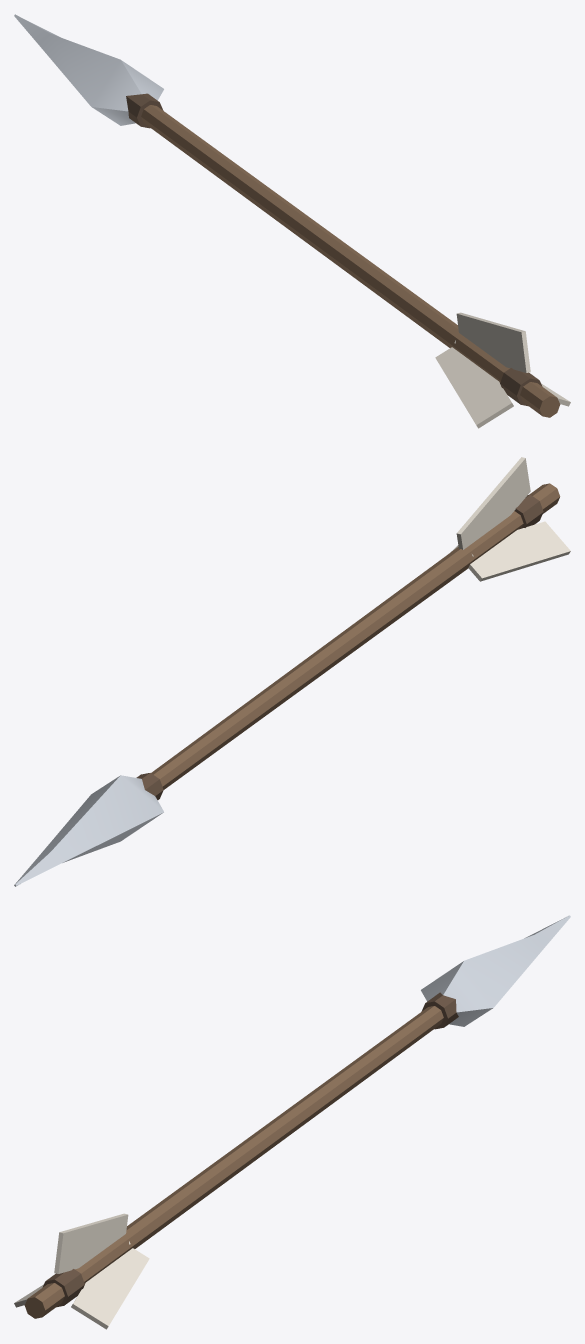
The model's file is ranger_arrow.glb.
The picture shows the model from 3 angles, top to bottom: view 1: azimuth 30°, elevation 25°; view 2: azimuth 150°, elevation 25°; view 3: azimuth 330°, elevation 25°; orthographic projection.
Visible parts, largest first — view 1: SM_Weapon_ShadowArrow_A; view 2: SM_Weapon_ShadowArrow_A; view 3: SM_Weapon_ShadowArrow_A.
Part boxes in pixels (x1,y1,x2,y2): SM_Weapon_ShadowArrow_A: (14,14,570,428); SM_Weapon_ShadowArrow_A: (14,457,570,886); SM_Weapon_ShadowArrow_A: (14,915,570,1329).
Size of the model in its own units: 0.0777 by 0.0699 by 0.76.
